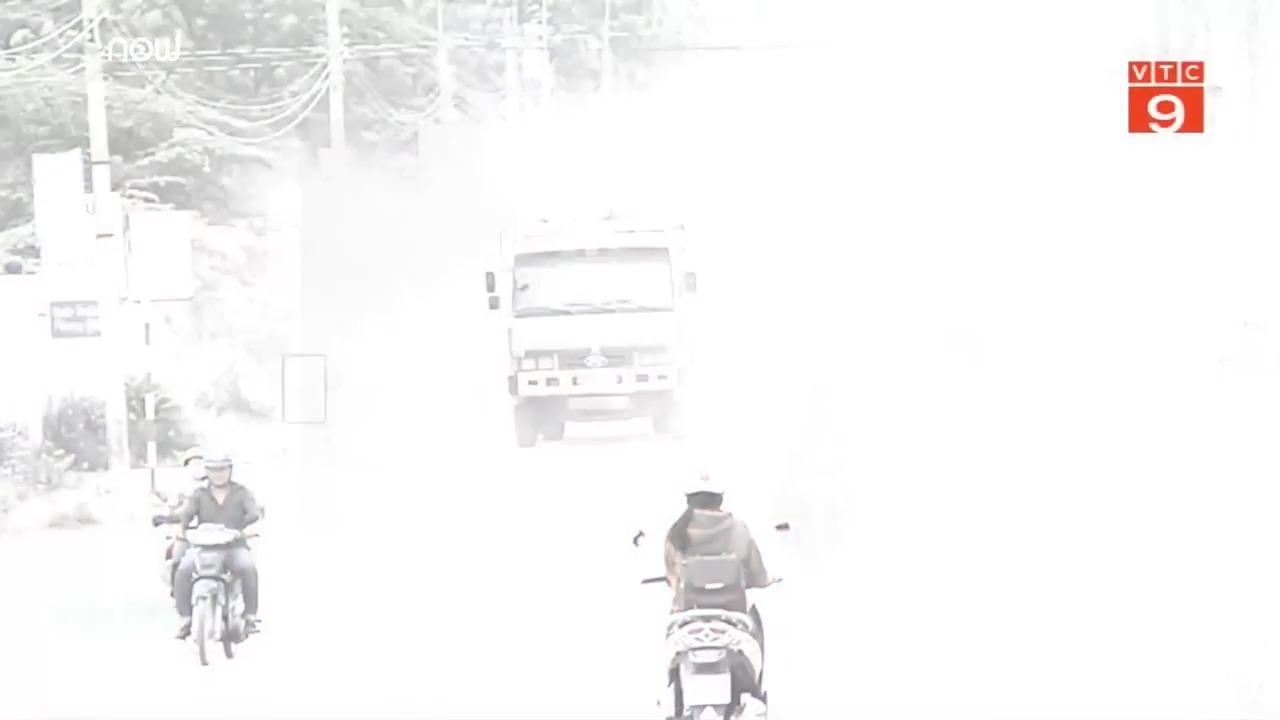motorcycle: (627, 513, 793, 720), (150, 494, 263, 666)
truck: (482, 210, 699, 445)
